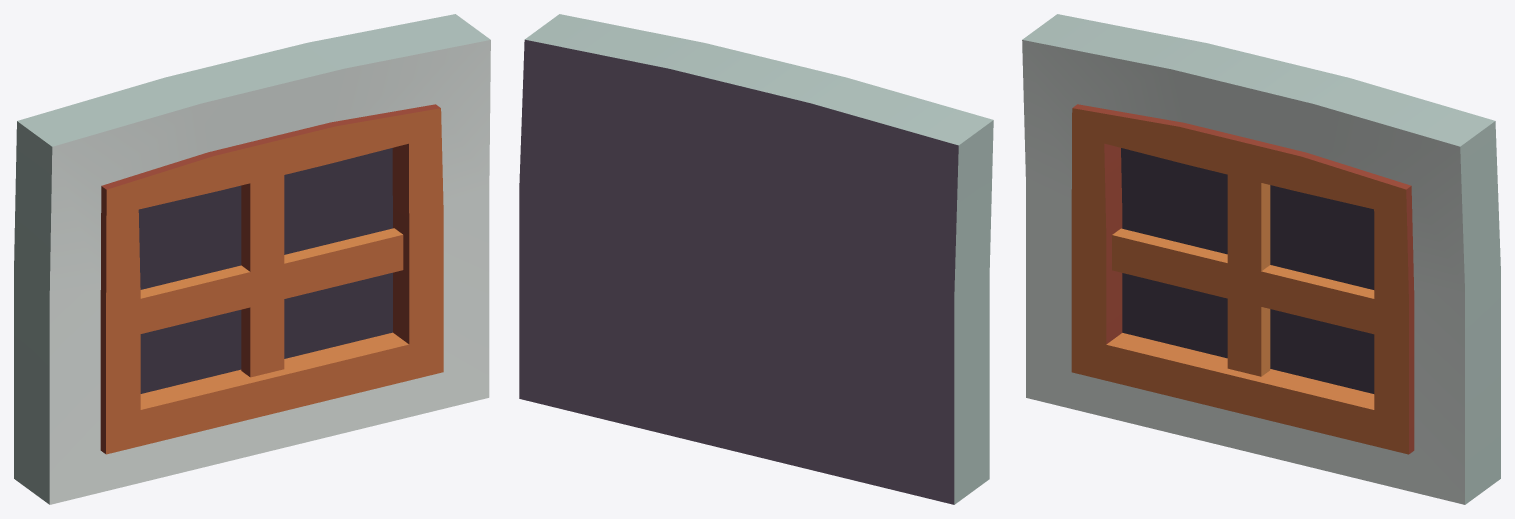
File: Window02_White_Wood.glb
3 renders of one model, left to right at view 1: azimuth 30°, elevation 25°; view 2: azimuth 150°, elevation 25°; view 3: azimuth 330°, elevation 25°, orthographic.
Parts seen in each view (by area): view 1: Window02_White_Wood; view 2: Window02_White_Wood; view 3: Window02_White_Wood.
Boxes of the visible parts, left/top/right/bottom form: Window02_White_Wood: left=14, top=14, right=490, bottom=504; Window02_White_Wood: left=519, top=14, right=993, bottom=504; Window02_White_Wood: left=1022, top=14, right=1500, bottom=504.
Size of the model in its own units: 0.9012 by 0.7186 by 0.1456.
1 material, 1 textured.
